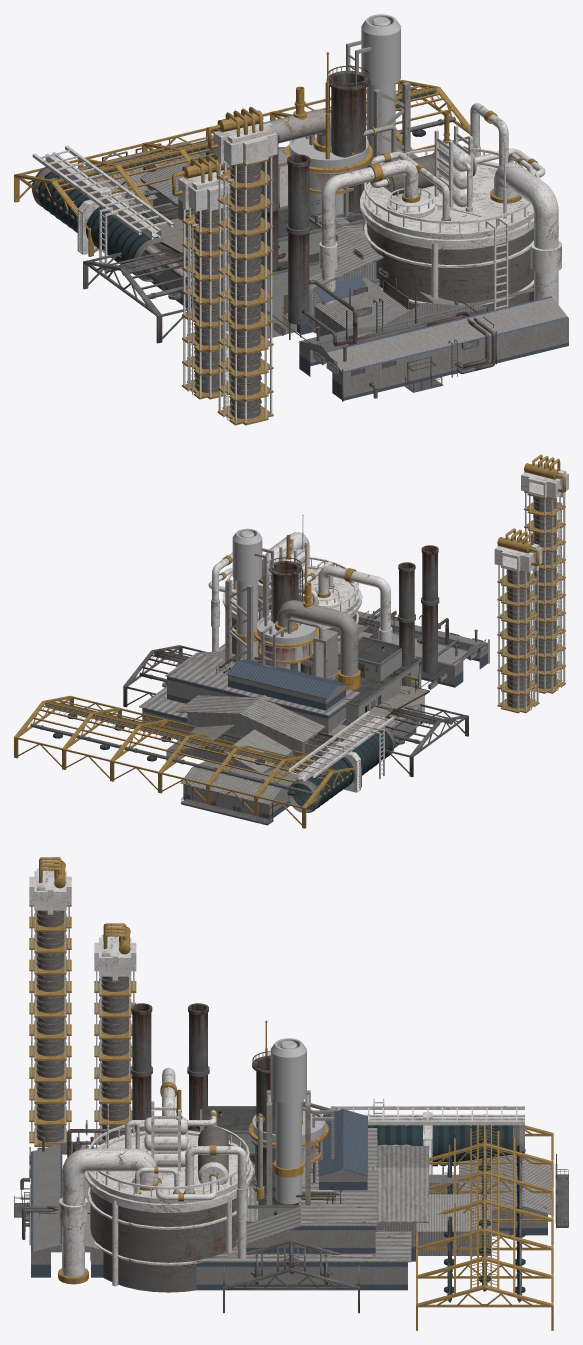
File: prototypes.glb
The picture shows the model from 3 angles, top to bottom: view 1: azimuth 30°, elevation 25°; view 2: azimuth 150°, elevation 25°; view 3: azimuth 270°, elevation 25°; orthographic projection. The views are drawn at different scales.
Visible parts, largest first — view 1: P_ibc04, P_ibc03, P_ibc12, P_ibc11, P_ibc05, P_ibc15, P_ibc14, P_mc_00, P_ibc02, P_ibc13, P_hall_big; view 2: P_ibc03, P_ibc04, P_ibc05, P_ibc13, P_ibc11, P_ibc12, P_ibc14, P_mc_00, P_ibc02, P_ibc15, P_hall_big; view 3: P_ibc04, P_ibc03, P_ibc13, P_ibc11, P_ibc05, P_ibc12, P_ibc14, P_ibc15, P_ibc02, P_mc_00.
Part boxes in pixels (<box>): P_ibc04: <box>32,103,561,315</box>; P_ibc03: <box>14,80,470,425</box>; P_ibc12: <box>77,142,568,400</box>; P_ibc11: <box>72,65,496,401</box>; P_ibc05: <box>263,14,410,216</box>; P_ibc15: <box>139,141,487,345</box>; P_ibc14: <box>153,146,383,334</box>; P_mc_00: <box>141,183,367,339</box>; P_ibc02: <box>83,248,194,343</box>; P_ibc13: <box>139,141,418,307</box>; P_hall_big: <box>152,217,228,330</box>; P_ibc03: <box>14,454,568,828</box>; P_ibc04: <box>208,514,395,812</box>; P_ibc05: <box>225,528,360,690</box>; P_ibc13: <box>139,643,420,749</box>; P_ibc11: <box>181,545,489,825</box>; P_ibc12: <box>180,611,487,819</box>; P_ibc14: <box>176,637,359,772</box>; P_mc_00: <box>216,636,421,763</box>; P_ibc02: <box>123,645,468,777</box>; P_ibc15: <box>166,625,416,773</box>; P_hall_big: <box>318,685,429,741</box>; P_ibc04: <box>58,1067,524,1292</box>; P_ibc03: <box>29,857,553,1330</box>; P_ibc13: <box>189,1109,411,1290</box>; P_ibc11: <box>14,1003,568,1245</box>; P_ibc05: <box>248,1020,334,1205</box>; P_ibc12: <box>31,1141,551,1277</box>; P_ibc14: <box>246,1146,428,1261</box>; P_ibc15: <box>416,1174,490,1255</box>; P_ibc02: <box>223,1101,359,1313</box>; P_mc_00: <box>188,1106,410,1220</box>.
Size of the model in its own units: 60.55 by 38.09 by 68.55.
Materials: 15 (15 with a texture image).
